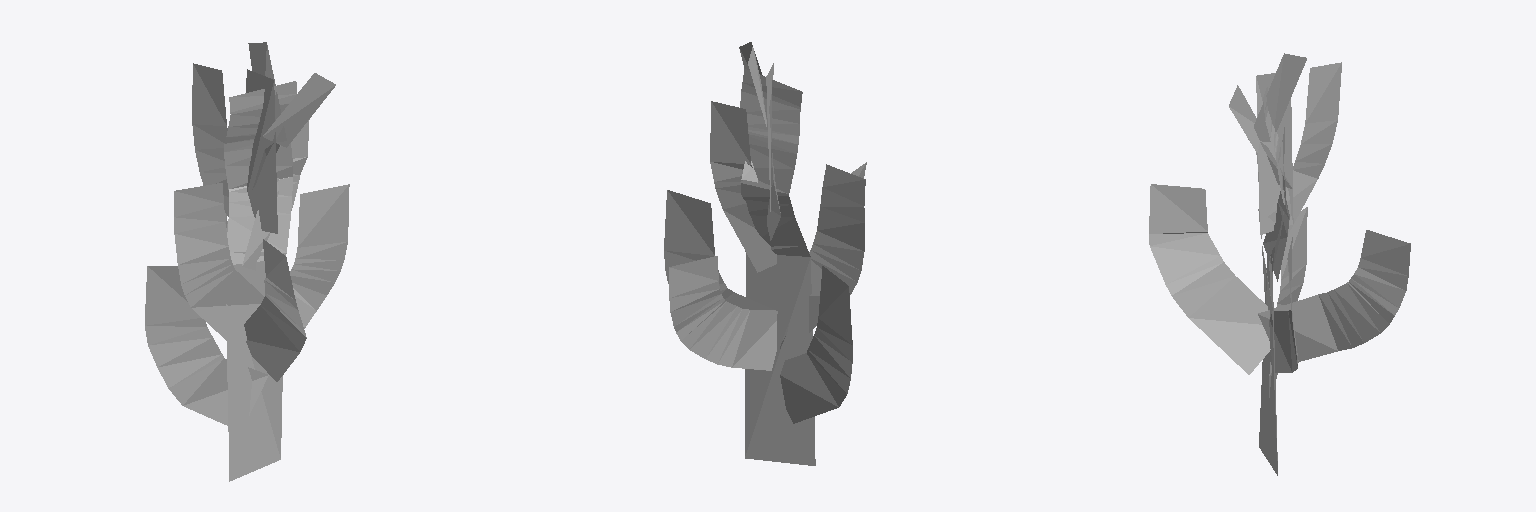
The model's file is cactus.obj.
3 renders of one model, left to right at view 1: azimuth 30°, elevation 25°; view 2: azimuth 150°, elevation 25°; view 3: azimuth 270°, elevation 25°, orthographic.
Visible parts, largest first — view 1: LOD0SG; view 2: LOD0SG; view 3: LOD0SG.
Part boxes in pixels (x1,y1,x2,y2): LOD0SG: (145, 42, 349, 481); LOD0SG: (664, 42, 866, 465); LOD0SG: (1149, 53, 1410, 475).
Bounding box in the file's own units: 2.94 × 5.98 × 3.4.